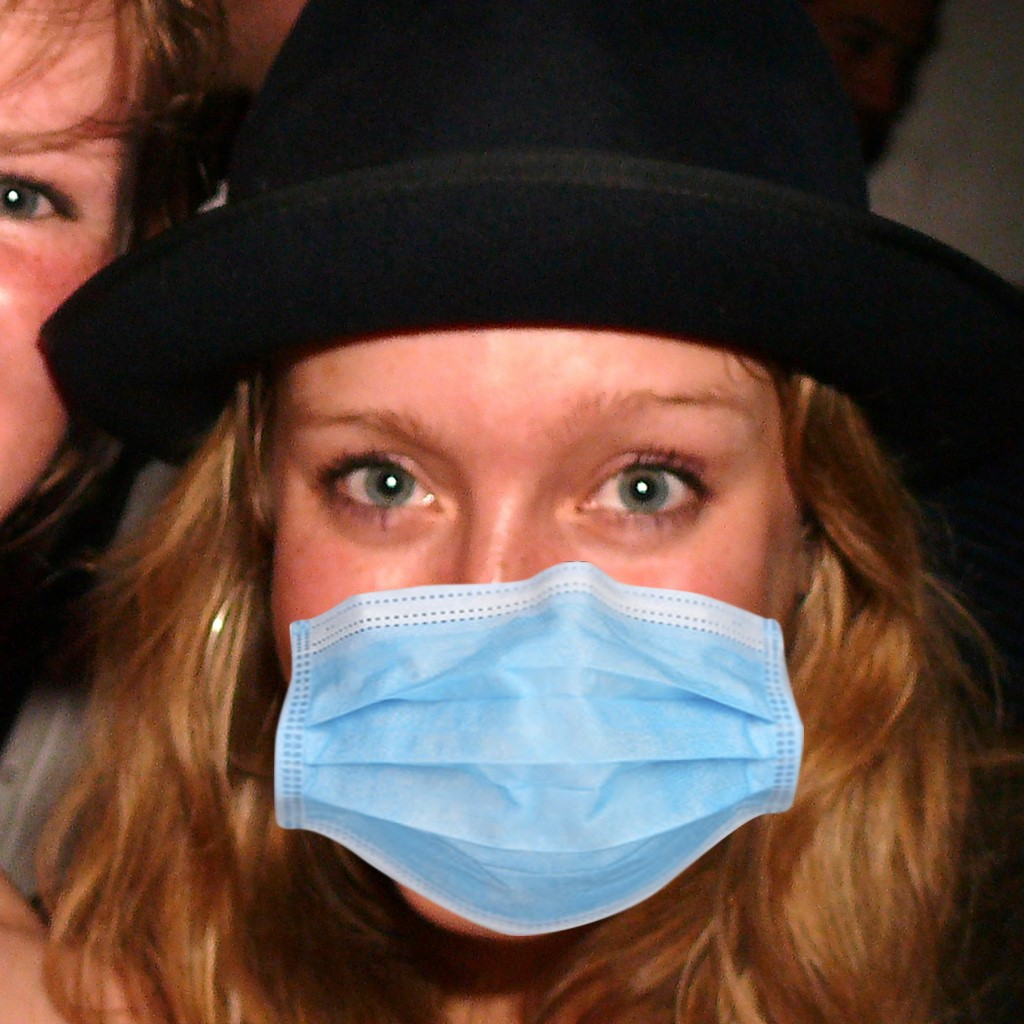con_mascara: (251, 321, 803, 937)
